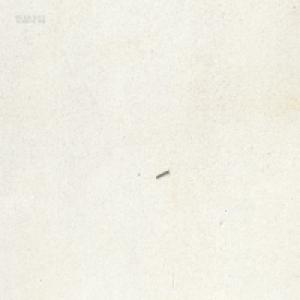Bolt: (155, 168, 168, 178)
